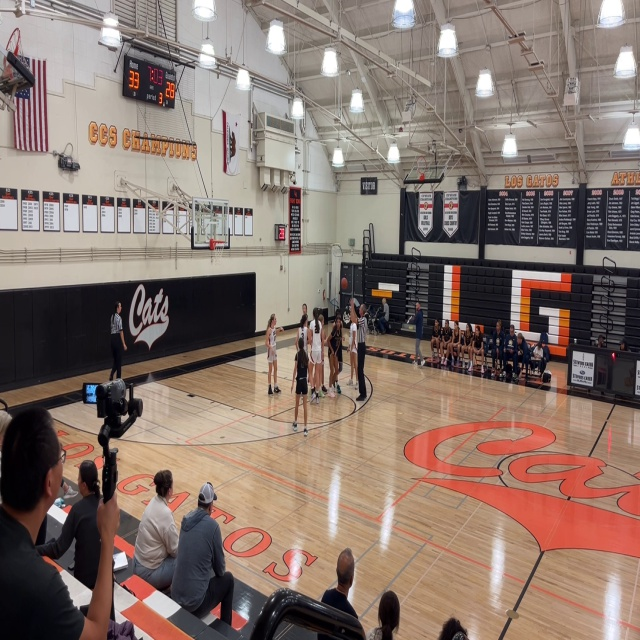Basketball: (340, 277, 348, 290)
